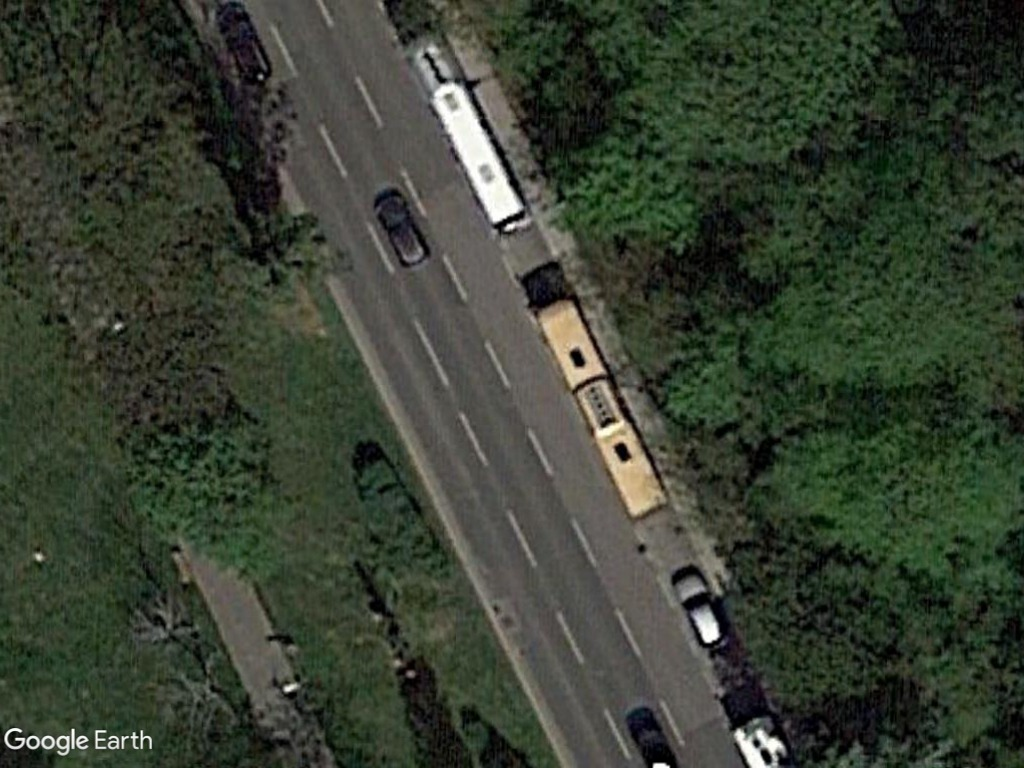bus: (534, 292, 669, 523)
car: (671, 570, 734, 653), (370, 190, 432, 272)
